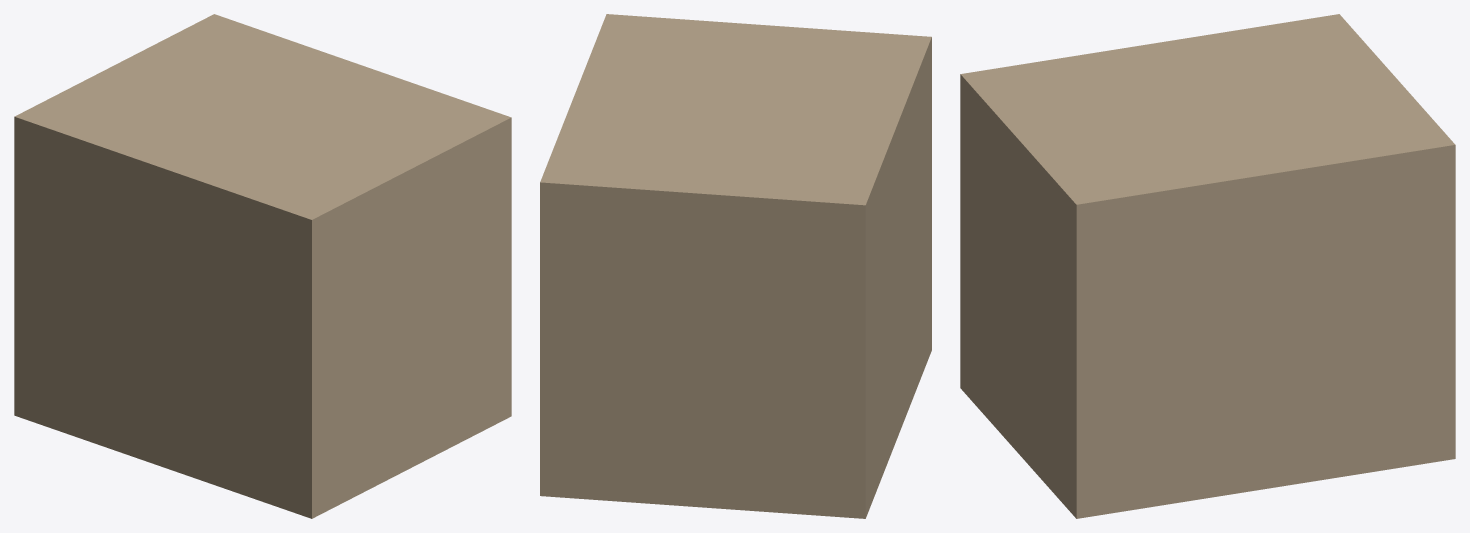
Rendered from bld_163484395.dae.
The picture shows the model from 3 angles, left to right: view 1: azimuth 30°, elevation 25°; view 2: azimuth 150°, elevation 25°; view 3: azimuth 270°, elevation 25°; orthographic projection. The views are drawn at different scales.
Parts seen in each view (by area): view 1: bld_163484395; view 2: bld_163484395; view 3: bld_163484395.
Boxes of the visible parts, <box> form: bld_163484395: <box>14,14,511,518</box>; bld_163484395: <box>540,14,931,518</box>; bld_163484395: <box>960,14,1455,518</box>.
Bounding box in the file's own units: 10.42 × 11.43 × 8.
